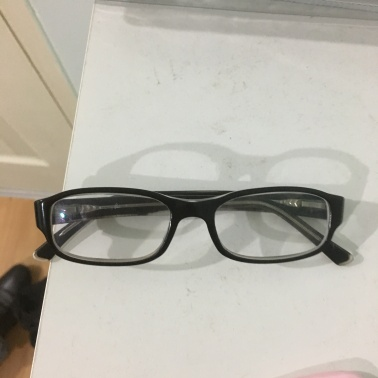glasses: (19, 167, 352, 273)
